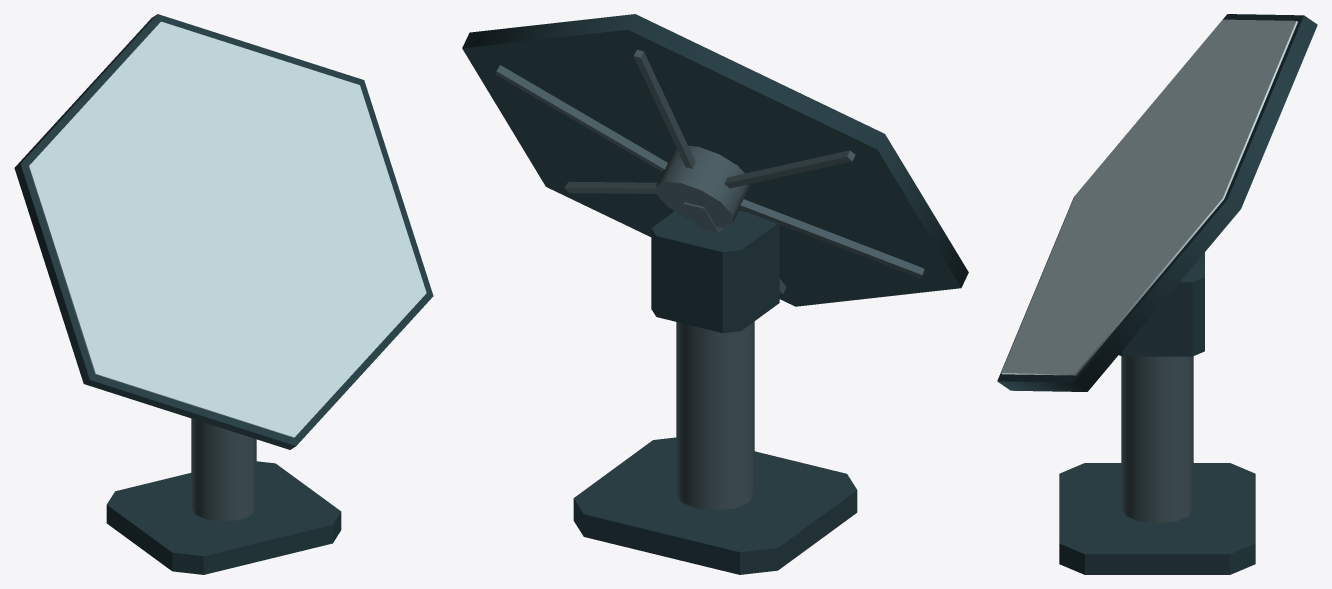
The model's file is mirror_d0_lod1.meshopt.glb.
3 views of the same model, side by side, from view 1: azimuth 30°, elevation 25°; view 2: azimuth 150°, elevation 25°; view 3: azimuth 270°, elevation 25° (orthographic). The views are drawn at different scales.
Visible parts, largest first — view 1: OPTICAL_FACE, MIRROR_PEDESTAL, MIRROR_BACK; view 2: MIRROR_BACK, MIRROR_PEDESTAL; view 3: OPTICAL_FACE, MIRROR_PEDESTAL, MIRROR_BACK.
Part boxes in pixels (bbox=[...]): OPTICAL_FACE: bbox=[28, 21, 426, 437]; MIRROR_PEDESTAL: bbox=[106, 418, 341, 574]; MIRROR_BACK: bbox=[14, 14, 433, 449]; MIRROR_BACK: bbox=[462, 14, 968, 306]; MIRROR_PEDESTAL: bbox=[573, 210, 857, 574]; OPTICAL_FACE: bbox=[1001, 19, 1297, 375]; MIRROR_PEDESTAL: bbox=[1059, 252, 1255, 574]; MIRROR_BACK: bbox=[997, 14, 1317, 391].
Bounding box in the file's own units: 2.68 × 3.47 × 1.96.
